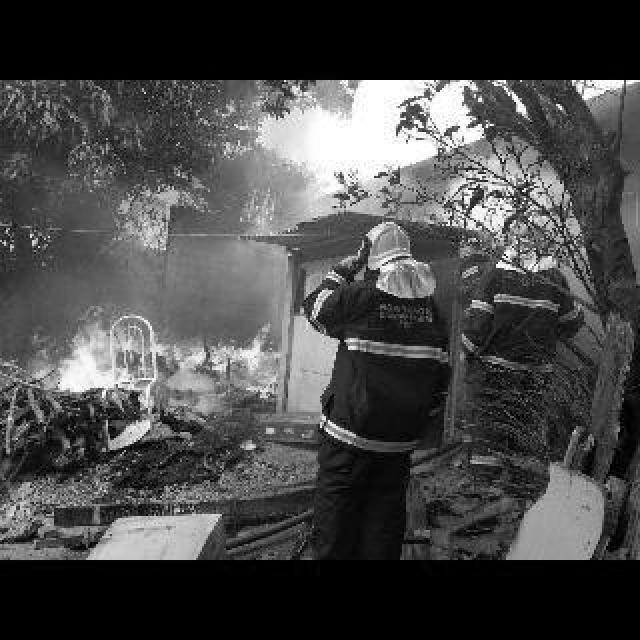fire: (28, 302, 172, 414), (178, 320, 284, 400)
smoke: (150, 360, 220, 430)
